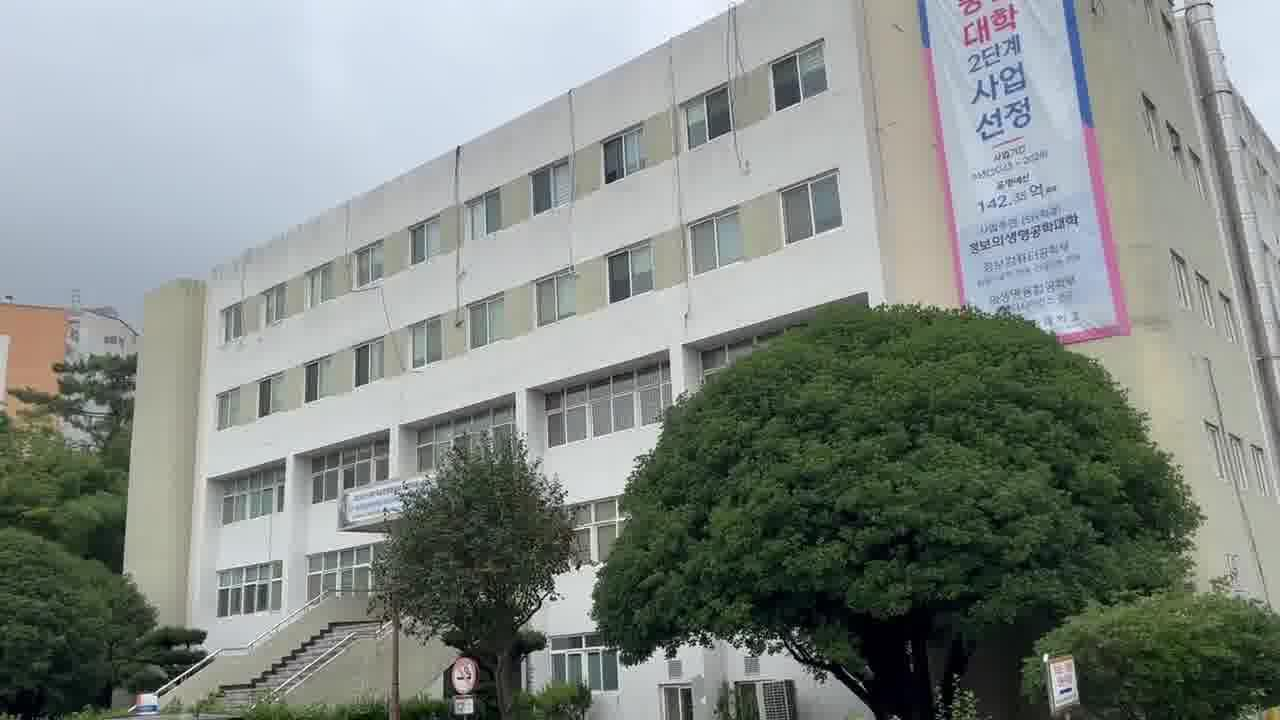building: (138, 133, 659, 478)
